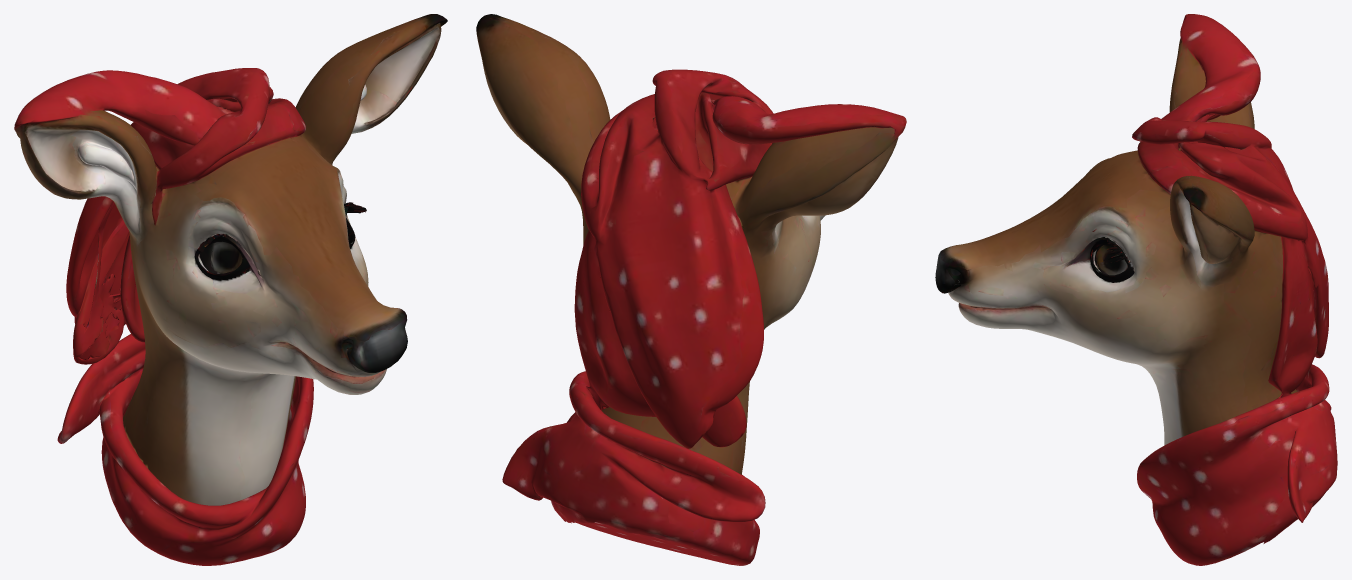
The model's file is hazel-head-trellis-source.glb.
The picture shows the model from 3 angles, left to right: view 1: azimuth 30°, elevation 25°; view 2: azimuth 150°, elevation 25°; view 3: azimuth 270°, elevation 25°; orthographic projection. The views are drawn at different scales.
Visible parts, largest first — view 1: world; view 2: world; view 3: world.
Boxes of the visible parts, x1=… form: world: x1=14, y1=14, x2=447, y2=565; world: x1=476, y1=14, x2=906, y2=565; world: x1=935, y1=14, x2=1337, y2=565.
Size of the model in its own units: 0.9049 by 1 by 0.8193.
1 material, 1 textured.
